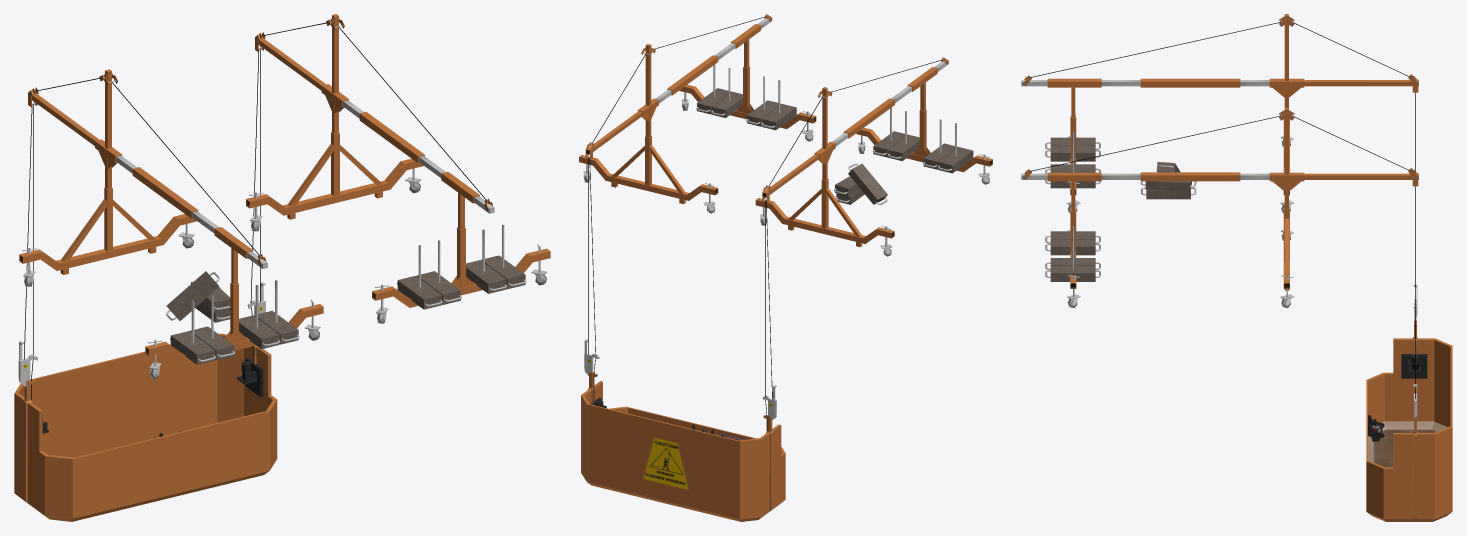
Rendered from wcm_2.fbx.
3 renders of one model, left to right at view 1: azimuth 30°, elevation 25°; view 2: azimuth 150°, elevation 25°; view 3: azimuth 270°, elevation 25°, orthographic. The views are drawn at different scales.
Visible parts, largest first — view 1: polySurface285, polySurface199 (×2), polySurface192 (×2), polySurface191 (×2), polySurface193 (×2), polySurface184 (×2), polySurface288, polySurface196, polySurface287; view 2: polySurface285, polySurface199 (×2), polySurface192 (×2), polySurface191 (×2), polySurface196, polySurface288, polySurface287; view 3: polySurface285, polySurface199 (×2), polySurface193 (×2), polySurface288, polySurface184, polySurface287, polySurface195, polySurface194.
Boxes of the visible parts, x1,y1,x2,y2 form: polySurface285: [14, 333, 277, 521]; polySurface199 (×2): [19, 14, 550, 378]; polySurface192 (×2): [170, 276, 442, 364]; polySurface191 (×2): [239, 260, 507, 349]; polySurface193 (×2): [189, 271, 461, 360]; polySurface184 (×2): [254, 255, 526, 344]; polySurface288: [18, 341, 48, 502]; polySurface196: [166, 271, 219, 320]; polySurface287: [237, 282, 265, 397]; polySurface285: [581, 381, 785, 521]; polySurface199 (×2): [579, 14, 992, 256]; polySurface192 (×2): [761, 104, 973, 173]; polySurface191 (×2): [711, 91, 919, 161]; polySurface196: [848, 163, 887, 204]; polySurface288: [762, 385, 776, 510]; polySurface287: [584, 339, 606, 407]; polySurface285: [1366, 338, 1452, 521]; polySurface199 (×2): [1021, 14, 1418, 307]; polySurface193 (×2): [1045, 145, 1100, 255]; polySurface288: [1401, 284, 1427, 378]; polySurface184: [1045, 266, 1100, 281]; polySurface287: [1412, 384, 1418, 518]; polySurface195: [1140, 181, 1196, 191]; polySurface194: [1141, 187, 1196, 199].
Size of the model in its own units: 670 by 784 by 736.
